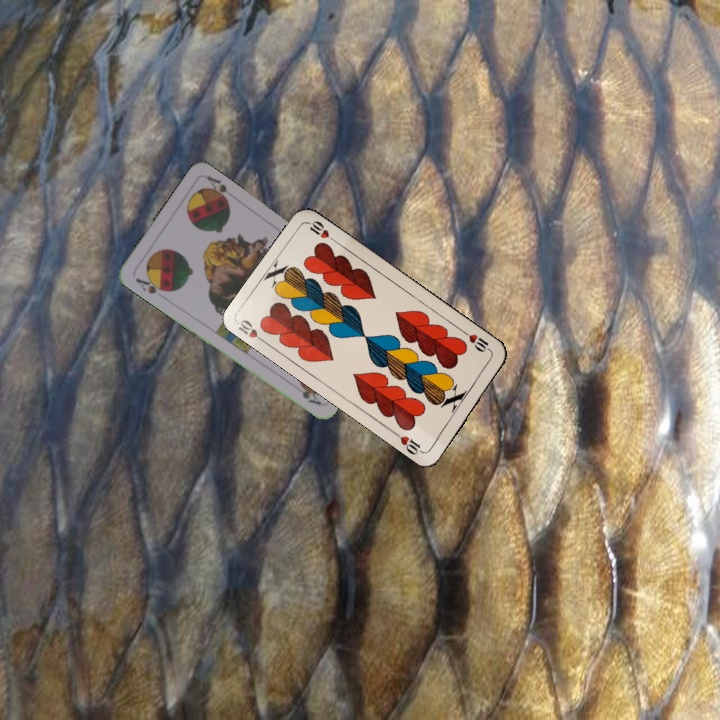H10: (233, 315, 270, 347), (459, 327, 494, 355)
SA: (131, 273, 170, 297)
